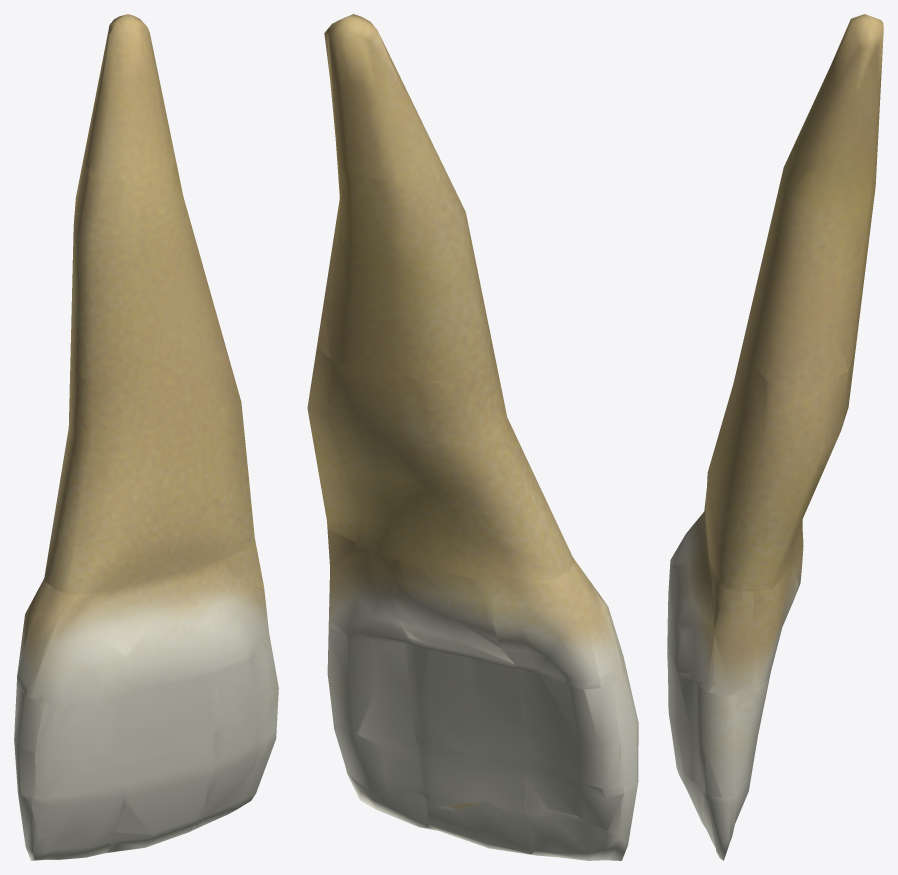
File: Right_Upper_Lateral_Incisor.glb
3 views of the same model, side by side, from view 1: azimuth 30°, elevation 25°; view 2: azimuth 150°, elevation 25°; view 3: azimuth 270°, elevation 25° (orthographic). The views are drawn at different scales.
Visible parts, largest first — view 1: Human_Teeth_Upper_Lateral_Incisor_Geo.029; view 2: Human_Teeth_Upper_Lateral_Incisor_Geo.029; view 3: Human_Teeth_Upper_Lateral_Incisor_Geo.029.
Part boxes in pixels (box(x1,y1,x2,y2)): Human_Teeth_Upper_Lateral_Incisor_Geo.029: box(14, 14, 278, 860); Human_Teeth_Upper_Lateral_Incisor_Geo.029: box(307, 14, 638, 860); Human_Teeth_Upper_Lateral_Incisor_Geo.029: box(667, 14, 883, 860).
Bounding box in the file's own units: 1.09 × 3.04 × 0.7169.
30 materials, 30 textured.
